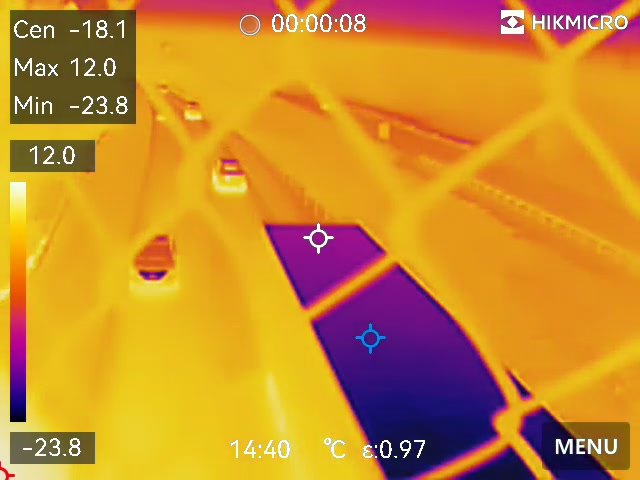smallCar: (208, 150, 244, 201)
vehicle: (129, 212, 178, 300), (182, 96, 208, 125)
